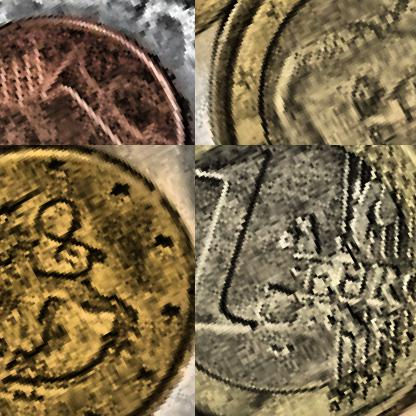coin: (195, 145, 415, 415), (0, 145, 194, 415), (195, 0, 415, 144), (0, 0, 194, 144)
